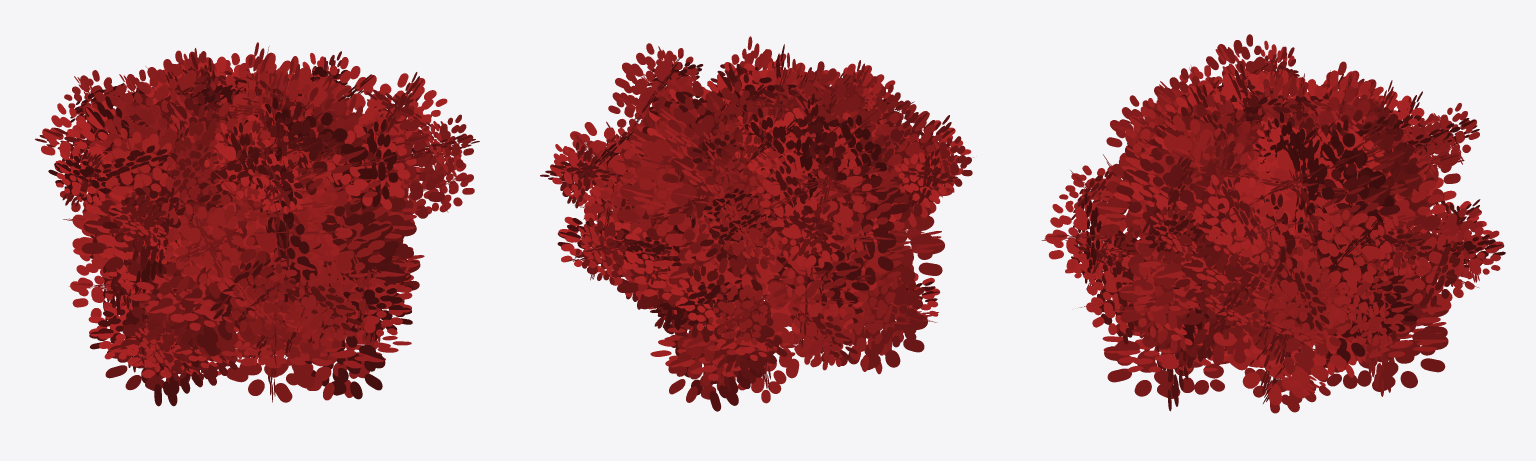
File: Bush_Common.obj
3 renders of one model, left to right at view 1: azimuth 30°, elevation 25°; view 2: azimuth 150°, elevation 25°; view 3: azimuth 270°, elevation 25°, orthographic. The views are drawn at different scales.
Parts seen in each view (by area): view 1: tree.008; view 2: tree.008; view 3: tree.008.
Part boxes in pixels (x1=…): tree.008: x1=35, y1=42, x2=479, y2=406; tree.008: x1=540, y1=36, x2=973, y2=411; tree.008: x1=1041, y1=34, x2=1505, y2=413.
Bounding box in the file's own units: 1.91 × 1.58 × 1.97.
1 material, 1 textured.
